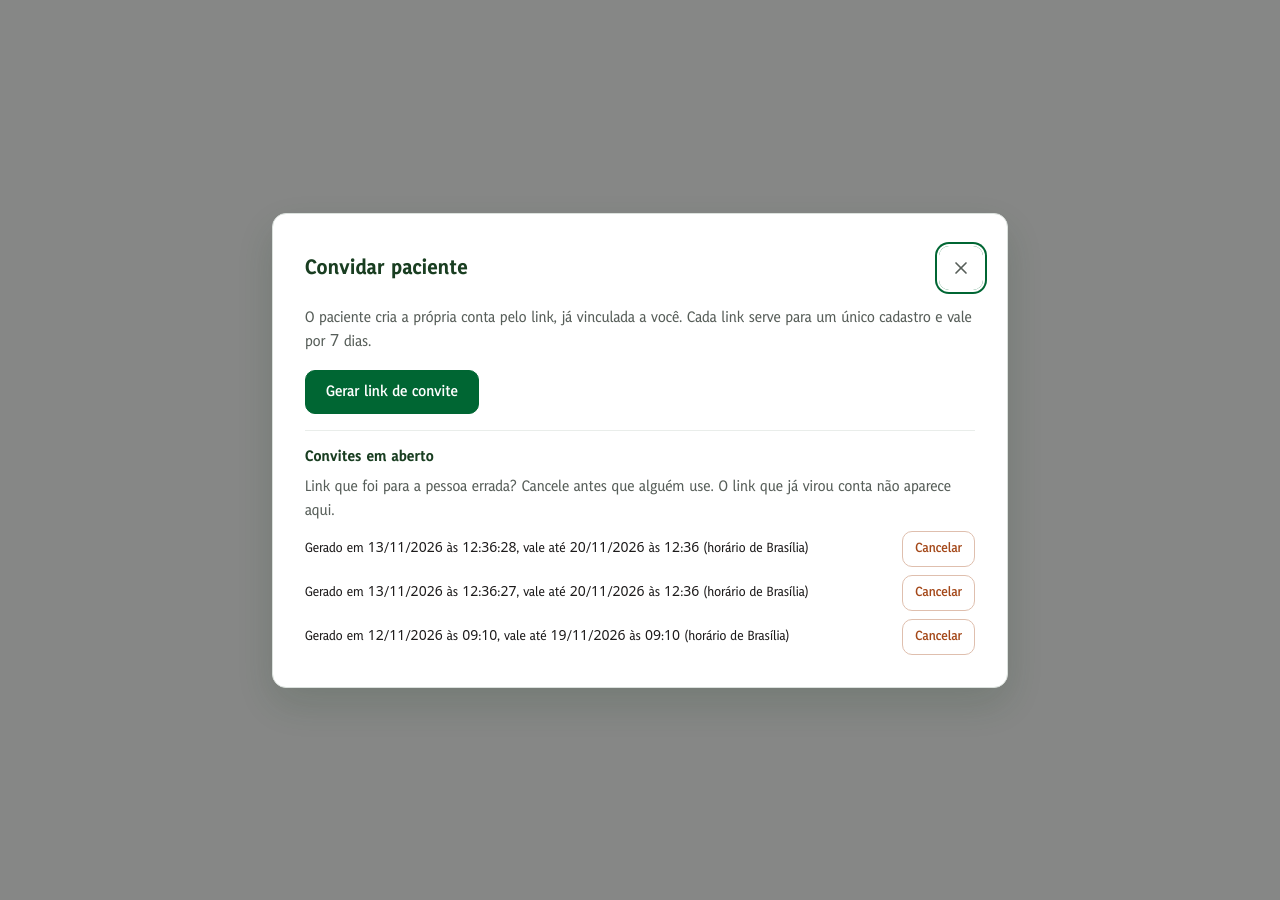
InvitePatientModal › convites do mesmo minuto mostram os segundos e o link da tela vem marcado
Step 1. Click the button "Gerar link de convite" → (392, 392), box [305,370,479,414]
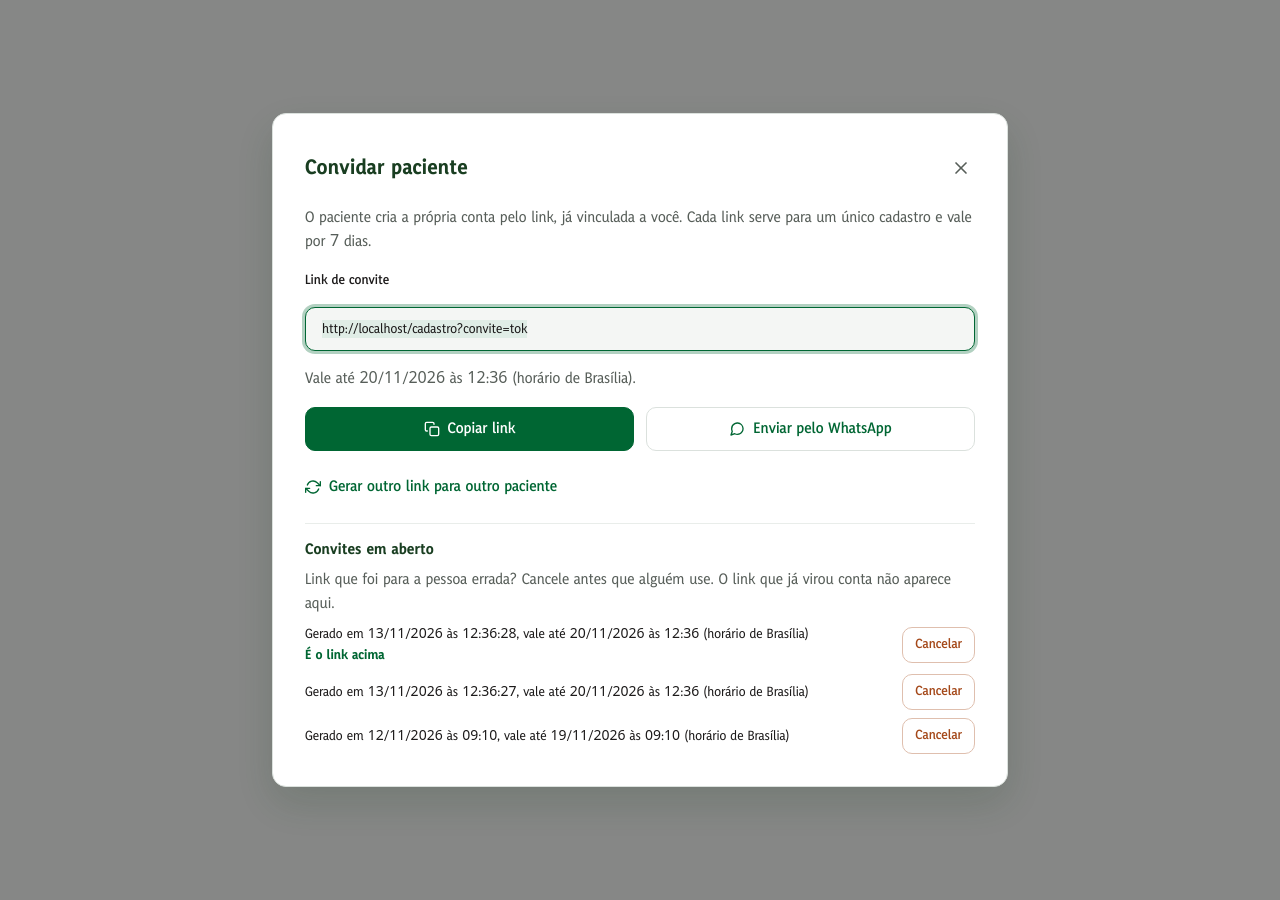
Expected: the number of list items is 3, [305,624,975,666]; [305,674,975,710]; [305,718,975,754]
Expected: the 1st list item shows "É o link acima", [305,646,384,664]
Expected: the button named "Cancelar convite gerado em 13/11/2026 às 12:36:28, o link acima" is shown, [902,627,975,663]
Step 2. Click the button with aria-label "Cancelar convite gerado em 13/11/2026 às 12:36:27" → (939, 692), box [902,674,975,710]
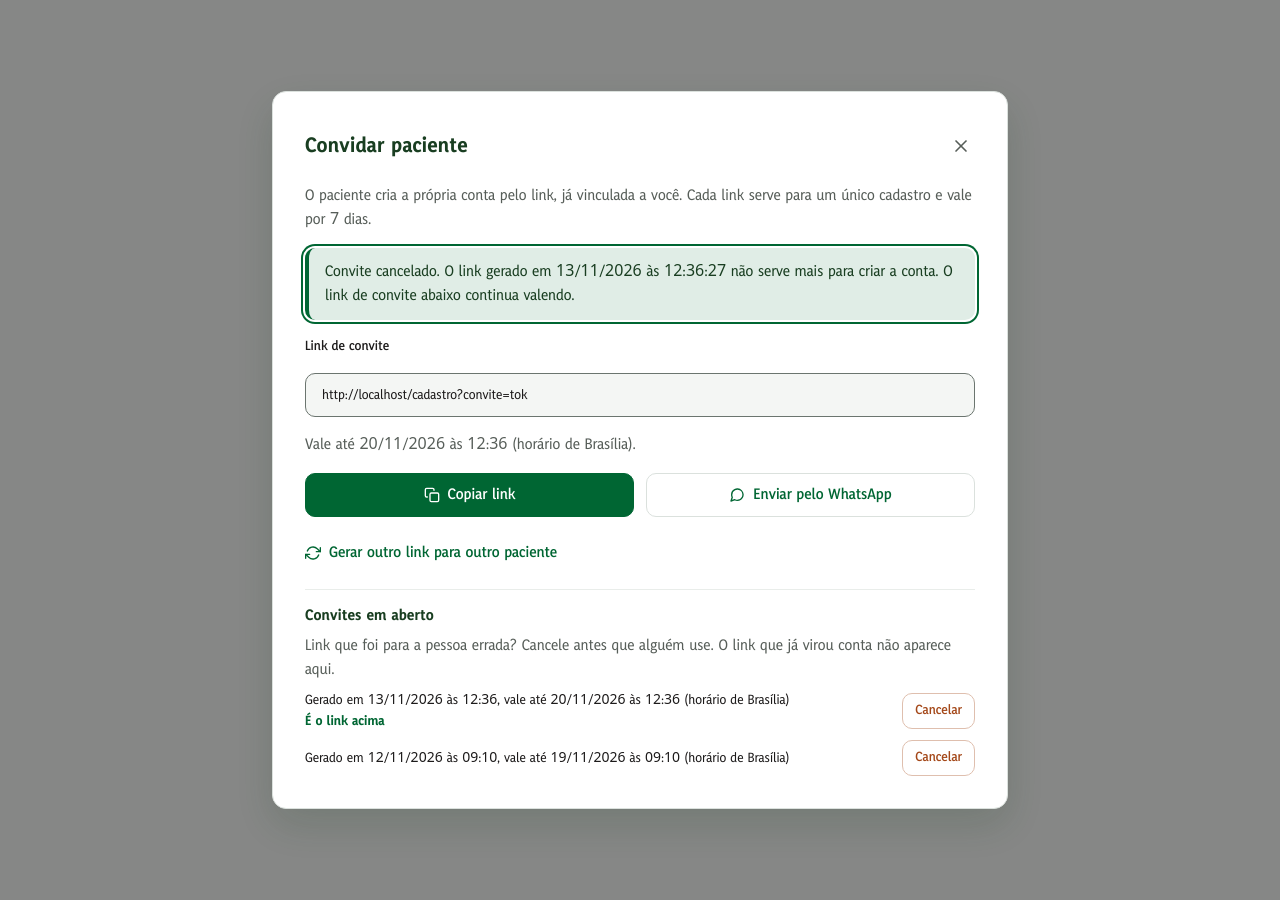
Expected: the field labelled "Link de convite" is shown, [305,373,975,417]
Expected: the button with aria-label "Cancelar convite gerado em 13/11/2026 às 12:36, o link acima" is shown, [902,693,975,729]
